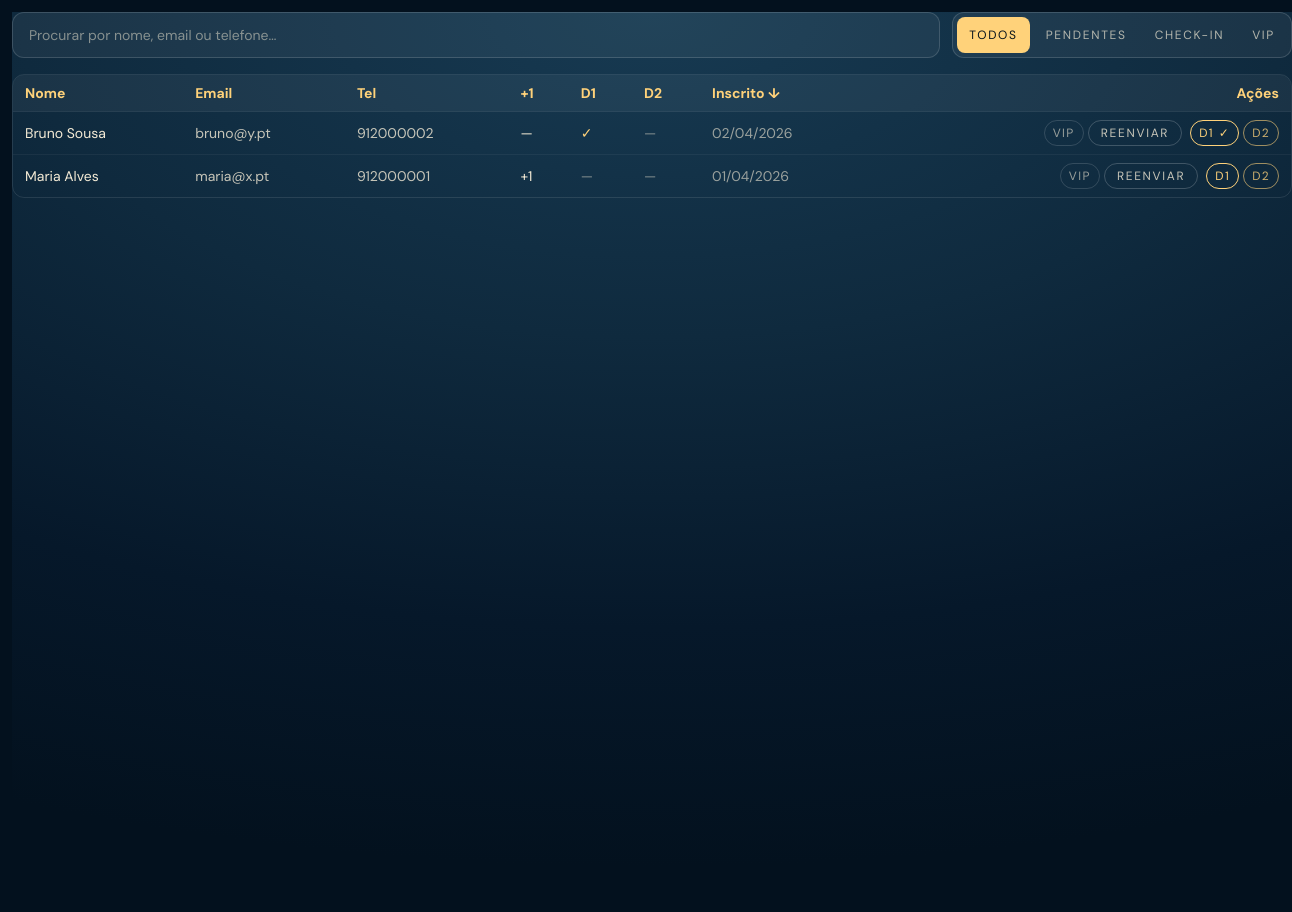
it: GuestsTable › toggleVip: PATCH /api/admin/toggle-vip + toast ok
Click the button titled "Toggle VIP" in the row of "Maria Alves": (1080, 176) [1060,163,1100,189]
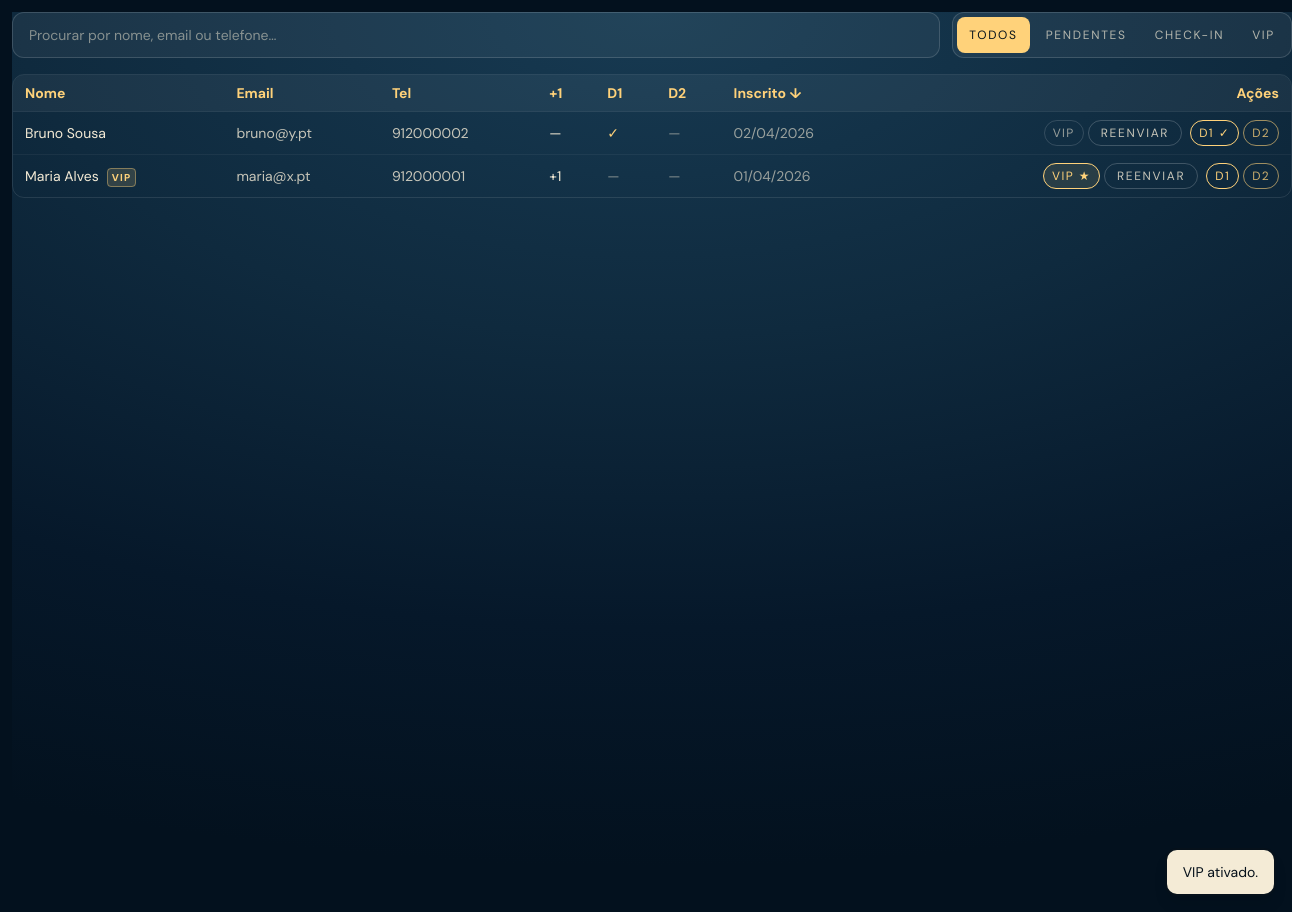
Expected: the text "VIP ativado." is shown, [1165,848,1276,896]
